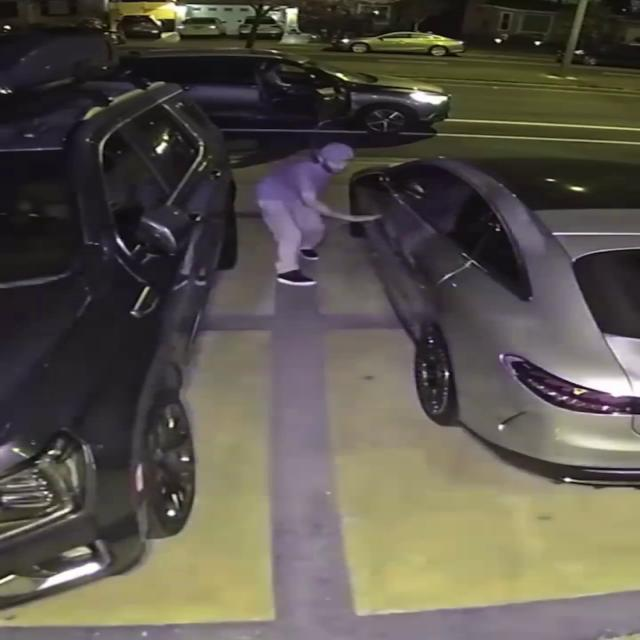Theft - Alert: (351, 158, 639, 486), (257, 142, 355, 286)
